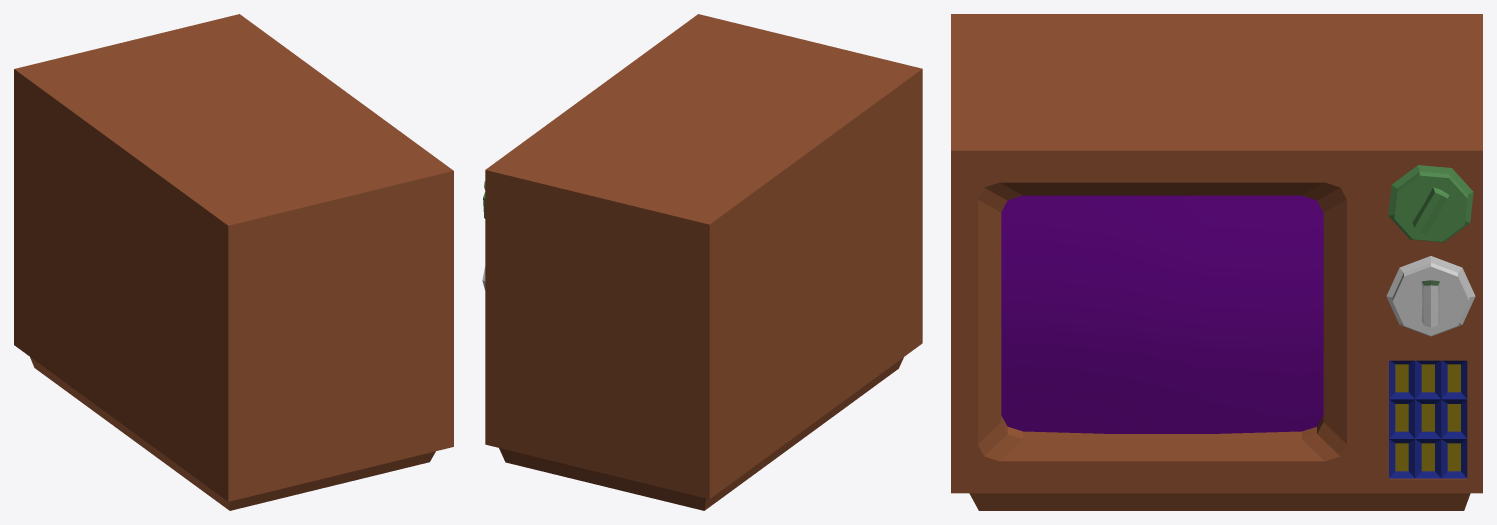
File: television.fbx
The picture shows the model from 3 angles, left to right: view 1: azimuth 30°, elevation 25°; view 2: azimuth 150°, elevation 25°; view 3: azimuth 270°, elevation 25°; orthographic projection. The views are drawn at different scales.
Visible parts, largest first — view 1: Cube.005; view 2: Cube.005; view 3: Cube.005.
Part boxes in pixels (left/top/right/bottom): Cube.005: left=14, top=14, right=453, bottom=510; Cube.005: left=482, top=14, right=922, bottom=510; Cube.005: left=951, top=14, right=1482, bottom=510.
Bounding box in the file's own units: 100 × 117 × 153.
